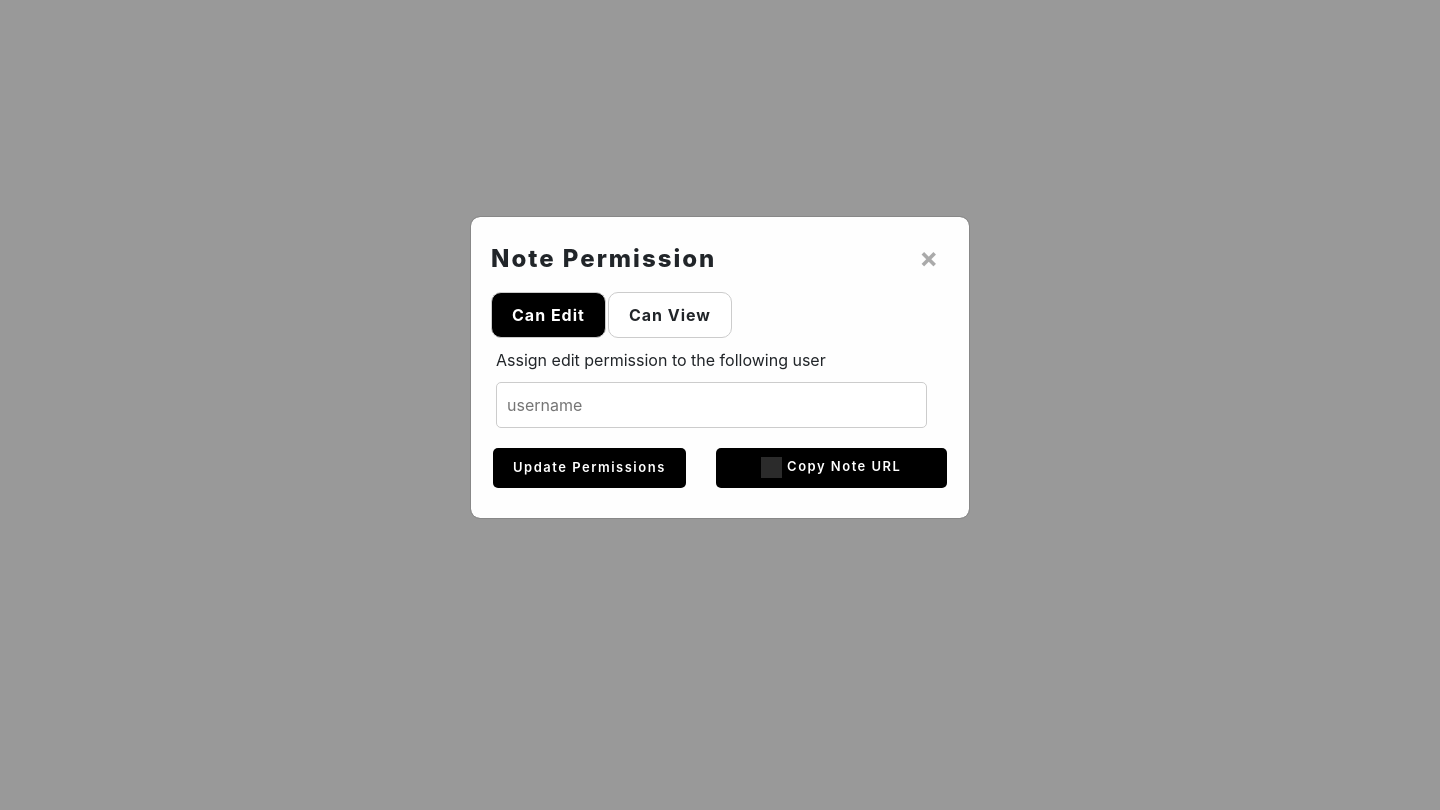
Scenario: PermissionTab Component › handles form submission error
Type "testuser" into the field with placeholder "username" at (712, 405), box [496, 382, 927, 428]
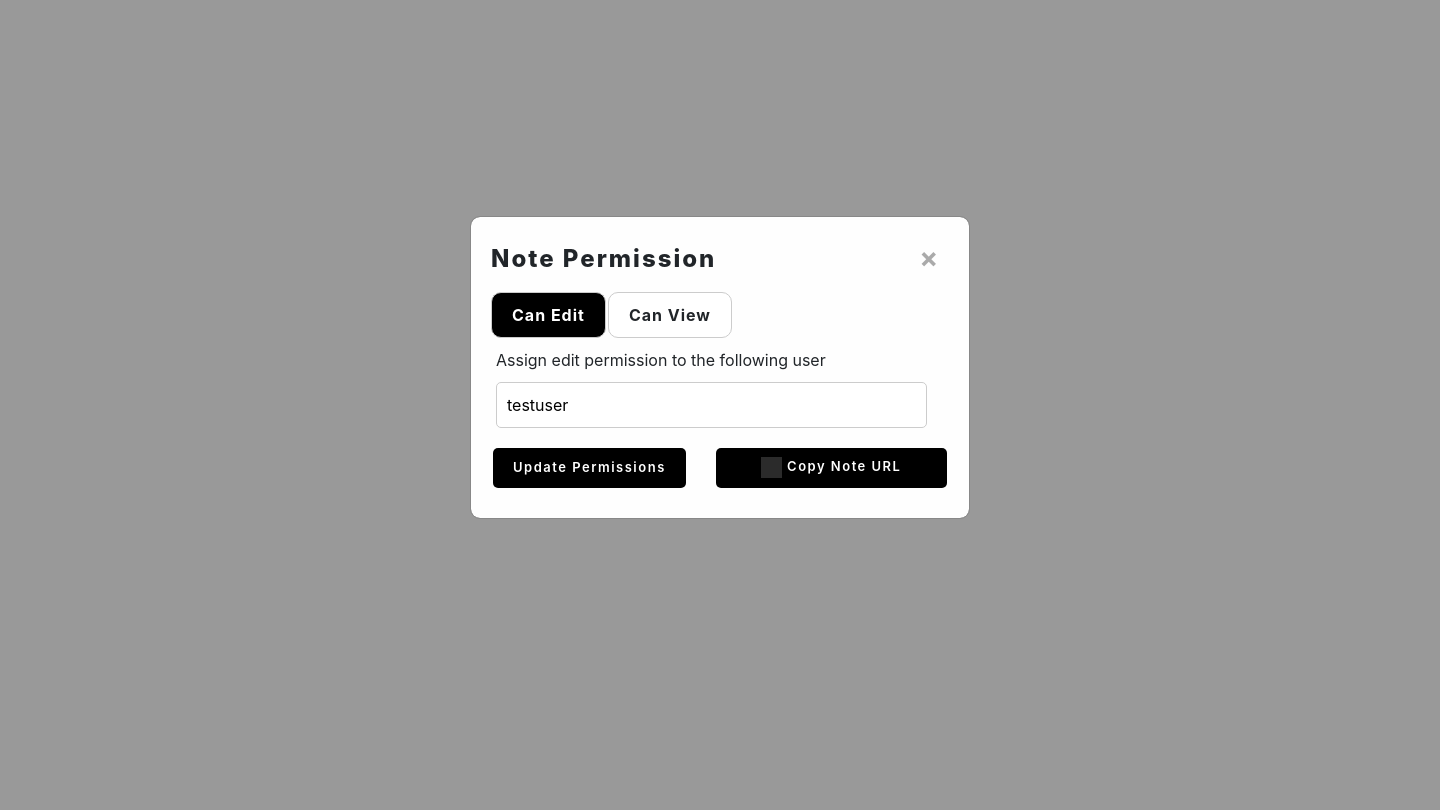
Click the button "Update Permissions" at (589, 468), box [493, 448, 686, 488]
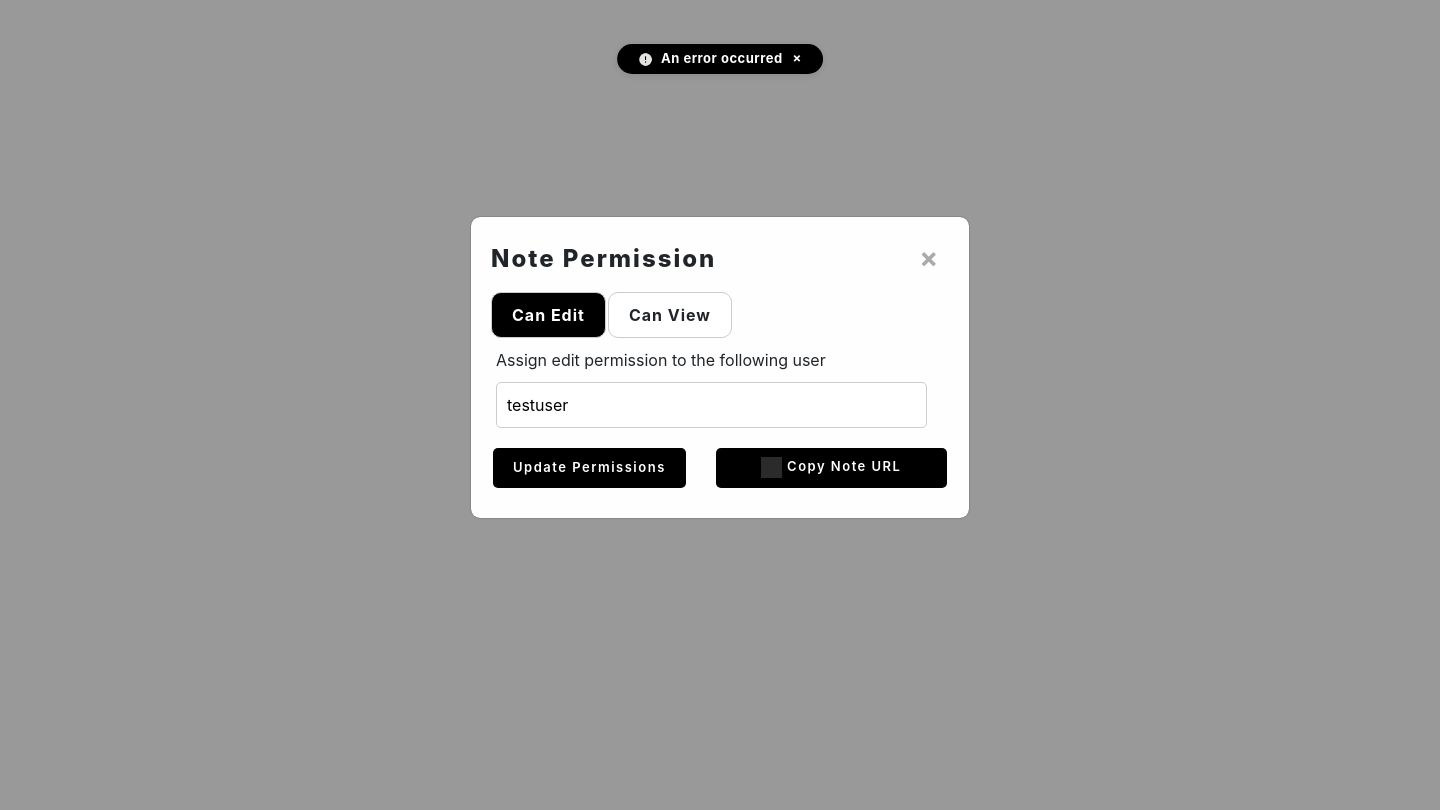
Expected: the text "An error occurred" is shown, [661, 50, 783, 66]
